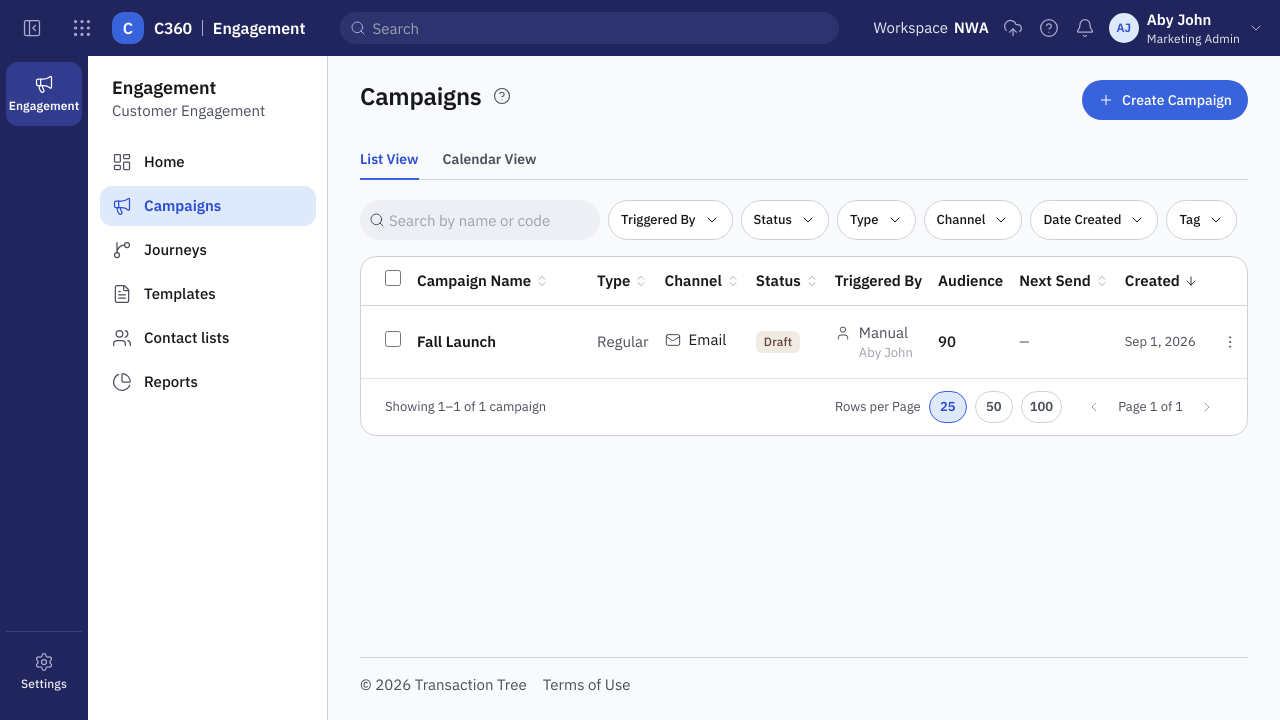
Test: the account menu names the workspace and its plan
expect the navigation bar named "Main" is shown: met, box [100,76,316,392]
Click the button with aria-label "Account".
click(1186, 28)  # box [1105,8,1268,48]
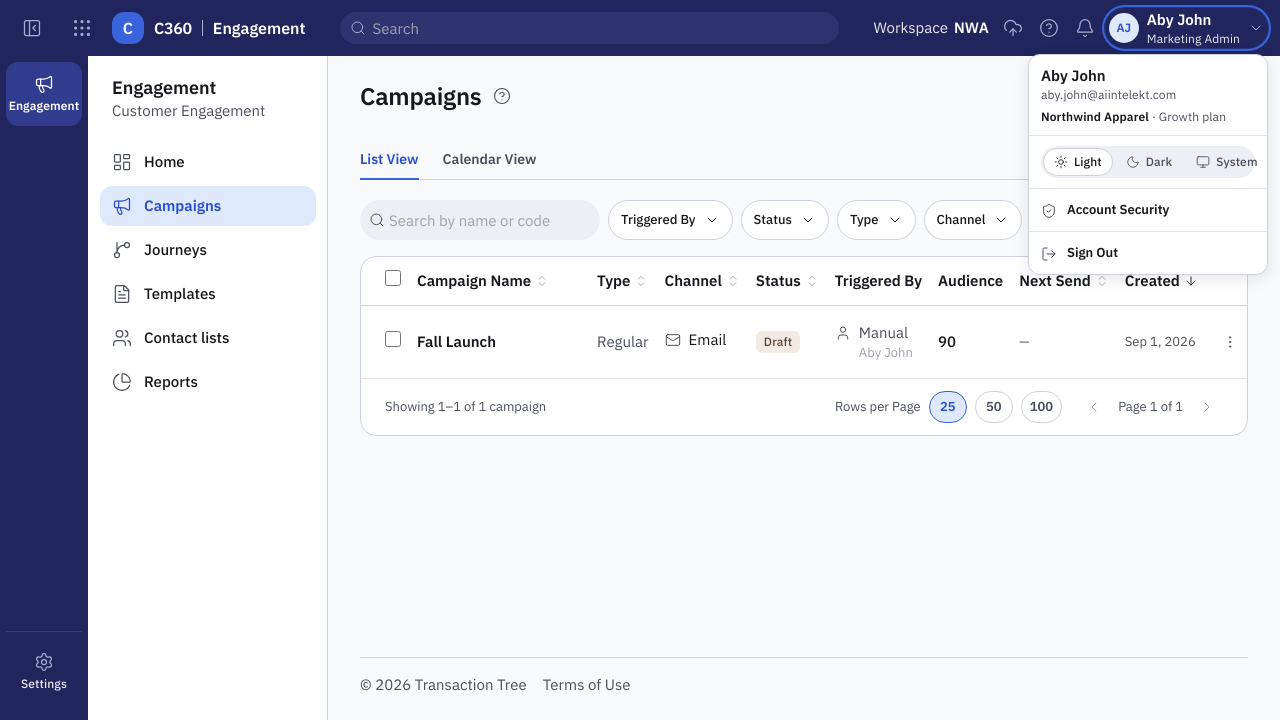
expect the element showing "Northwind Apparel · Growth plan" is shown: met, box [1041,109,1255,125]
